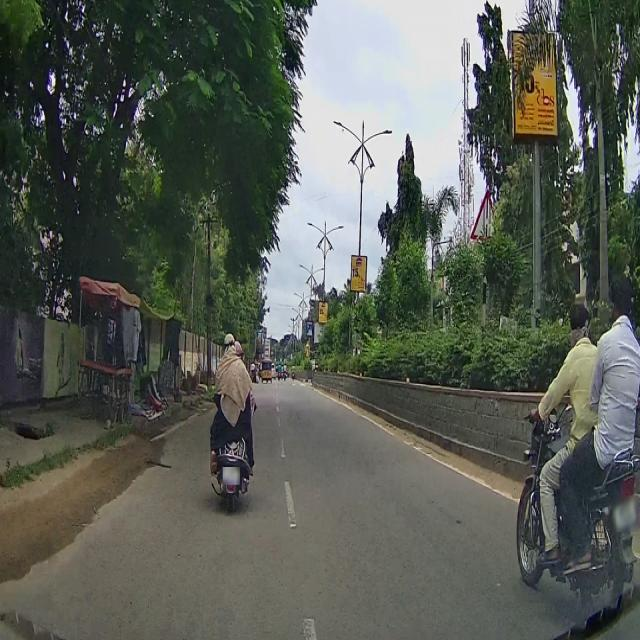gap-in-median: (468, 184, 498, 235)
